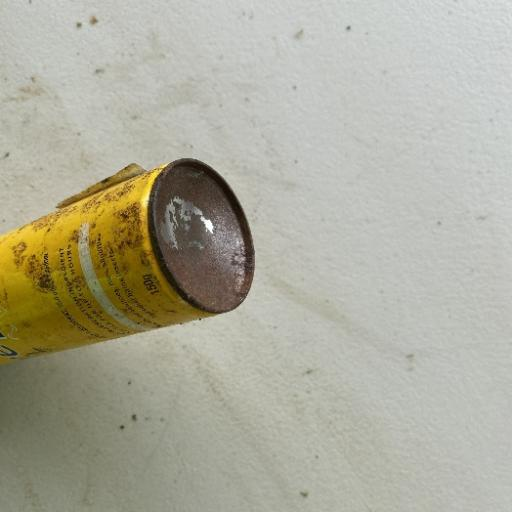Metal: (1, 156, 257, 366)
